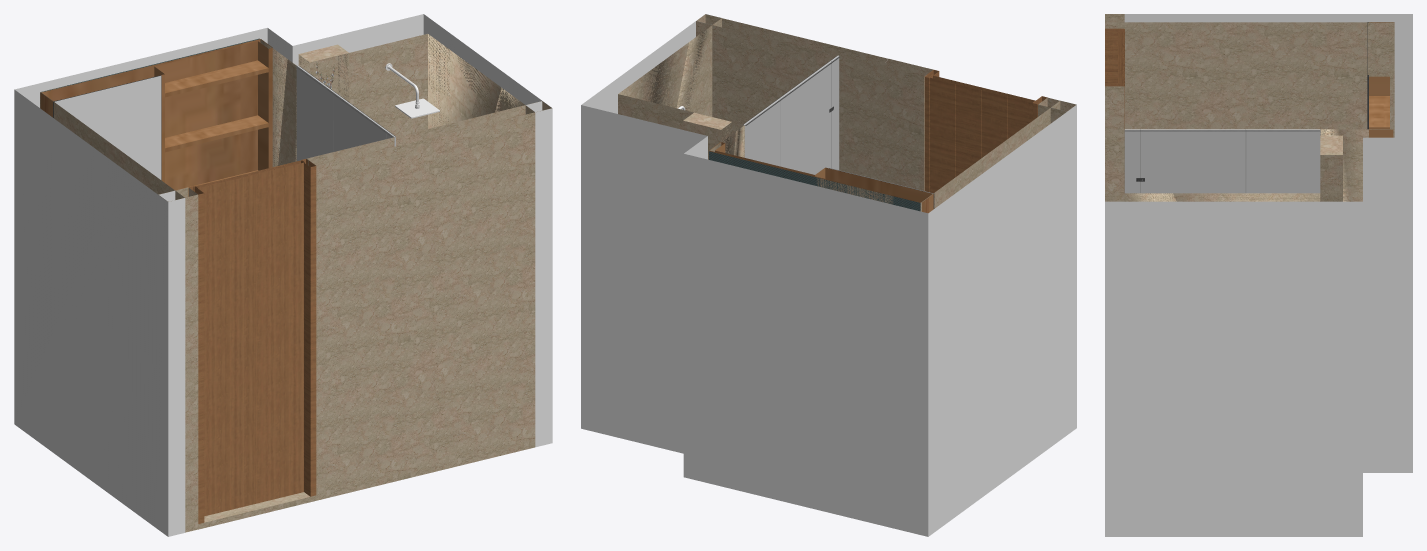
Rendered from R06_KBATH.glb.
3 views of the same model, side by side, from view 1: azimuth 30°, elevation 25°; view 2: azimuth 150°, elevation 25°; view 3: azimuth 270°, elevation 25° (orthographic). The views are drawn at different scales.
Parts seen in each view (by area): view 1: Maket_R06_KBATH; view 2: Maket_R06_KBATH; view 3: Maket_R06_KBATH.
Boxes of the visible parts, x1,y1,x2,y2 form: Maket_R06_KBATH: [14, 14, 552, 536]; Maket_R06_KBATH: [581, 14, 1076, 536]; Maket_R06_KBATH: [1105, 14, 1412, 536].
Bounding box in the file's own units: 0.1465 × 0.122 × 0.1015.
42 materials, 25 textured.
